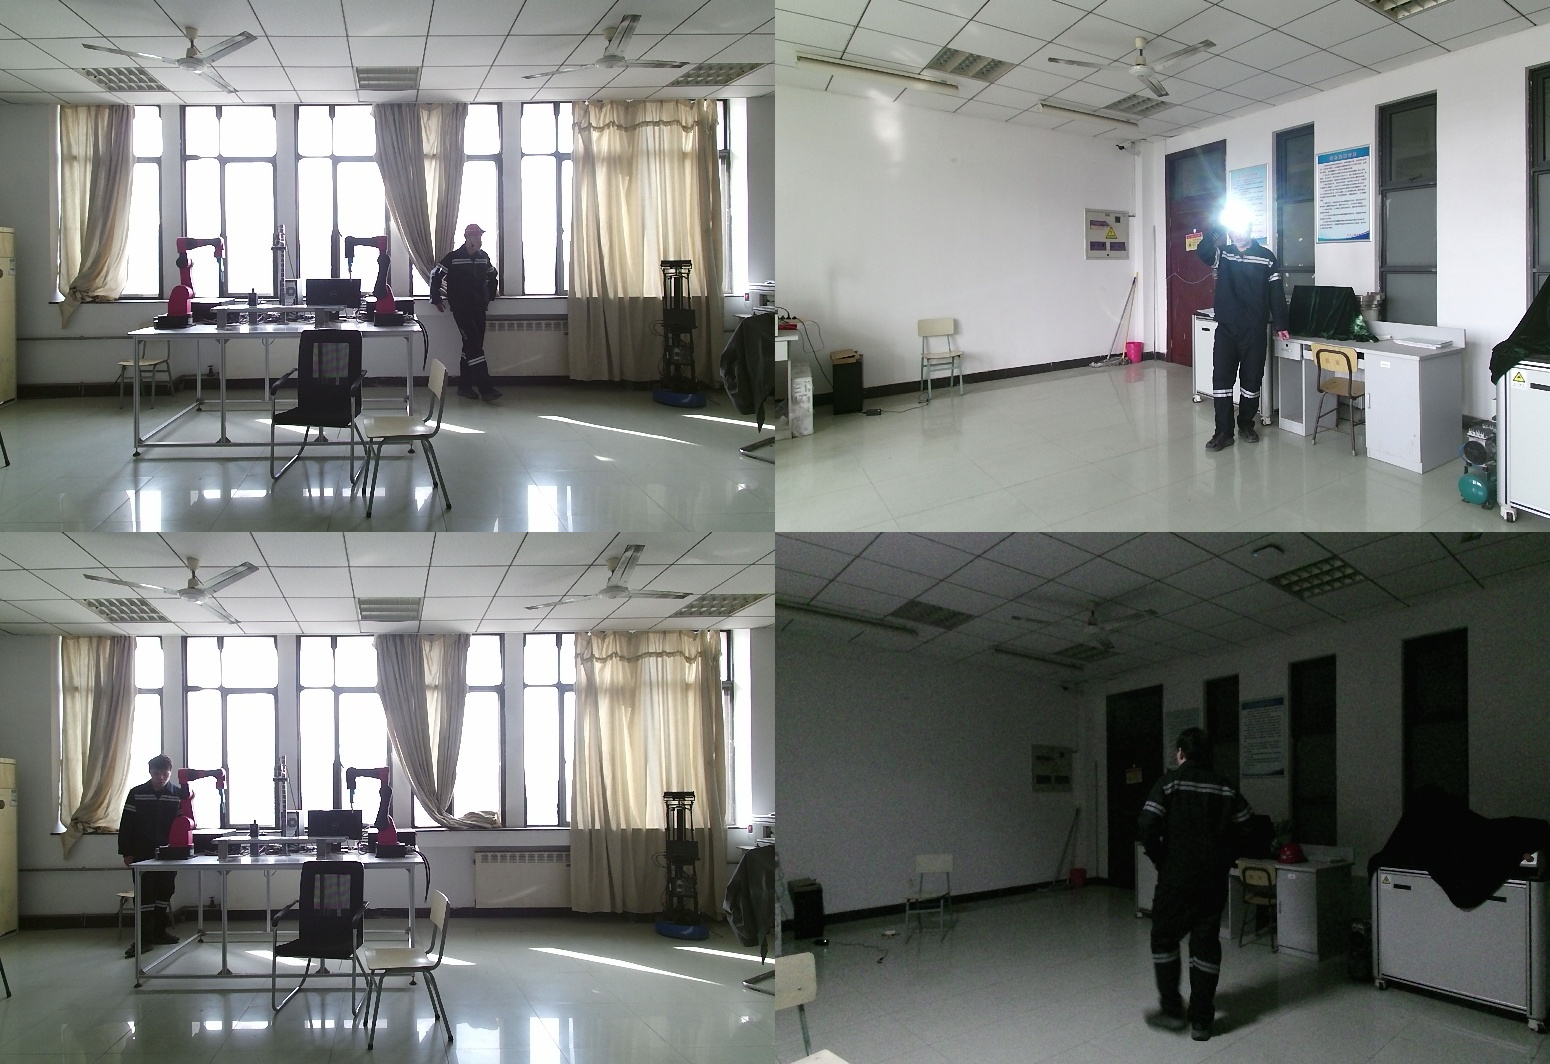person: (1141, 725, 1278, 1064), (1197, 205, 1297, 451), (116, 755, 188, 960), (433, 226, 516, 406)
